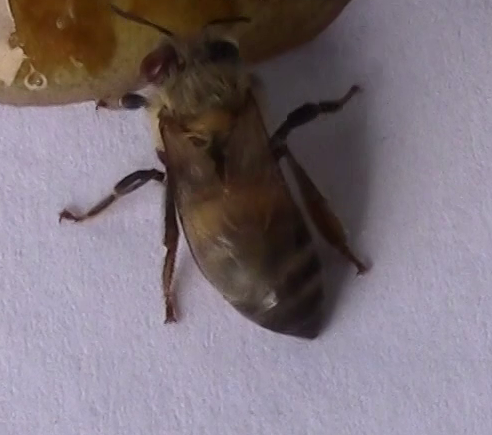Varroa destructor: (140, 42, 176, 81)
